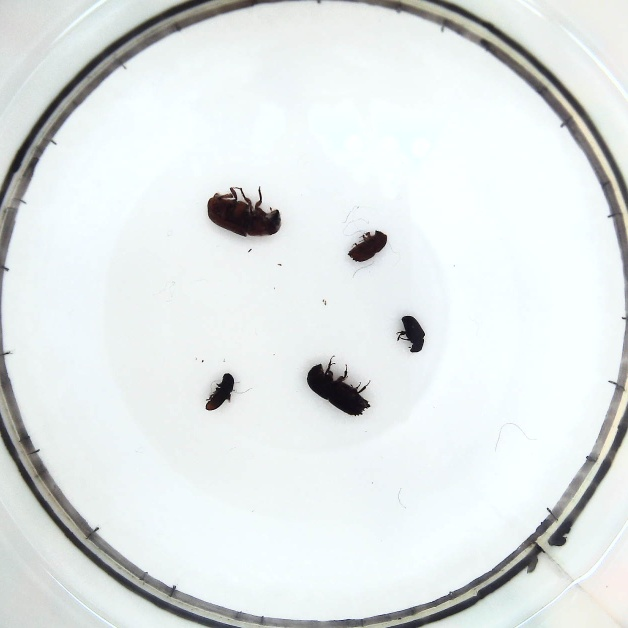armandi: (202, 370, 238, 414)
boerner: (306, 354, 374, 417)
coleoptera: (393, 312, 427, 357)
leconte: (204, 182, 283, 242)
linnaeus: (345, 225, 391, 264)
